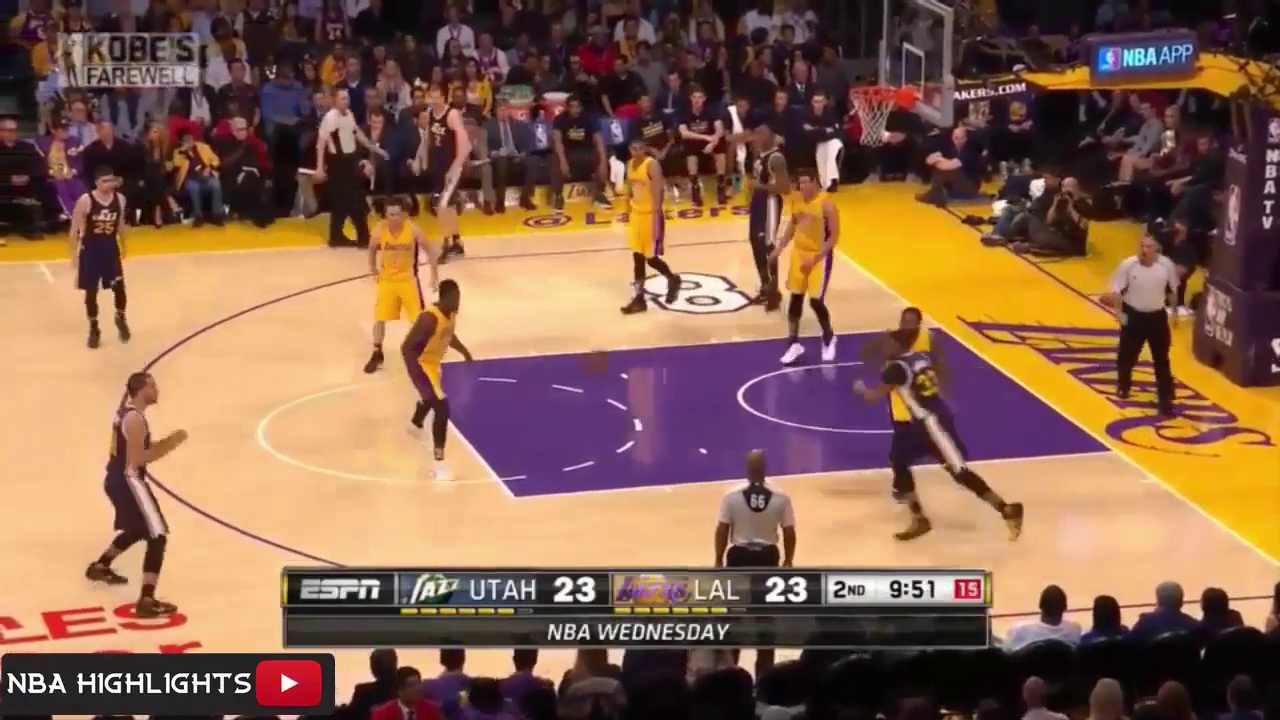jazz: (856, 339, 1028, 540), (86, 371, 201, 616), (66, 171, 164, 351), (419, 84, 476, 258), (746, 123, 788, 310)
lakers: (397, 279, 485, 468), (614, 136, 692, 313), (359, 206, 435, 365), (788, 182, 844, 362), (895, 311, 946, 371)
